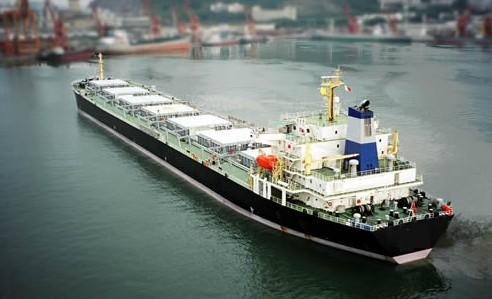Cargoship: (69, 48, 458, 264)
